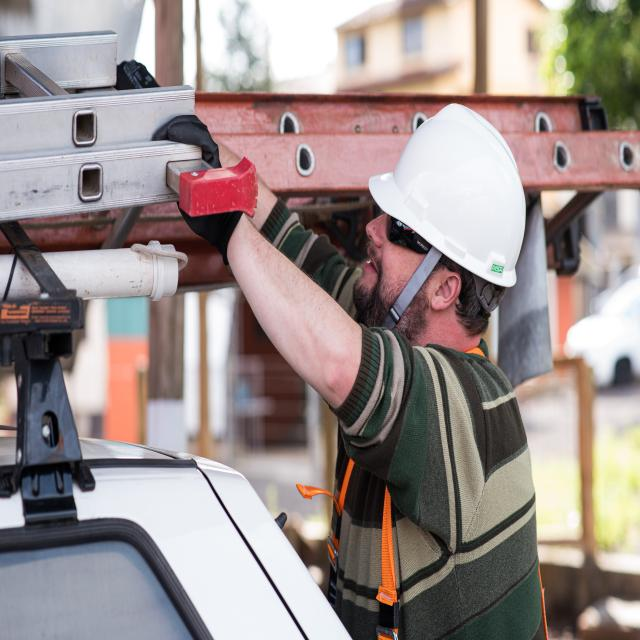capacete: (364, 97, 526, 296)
